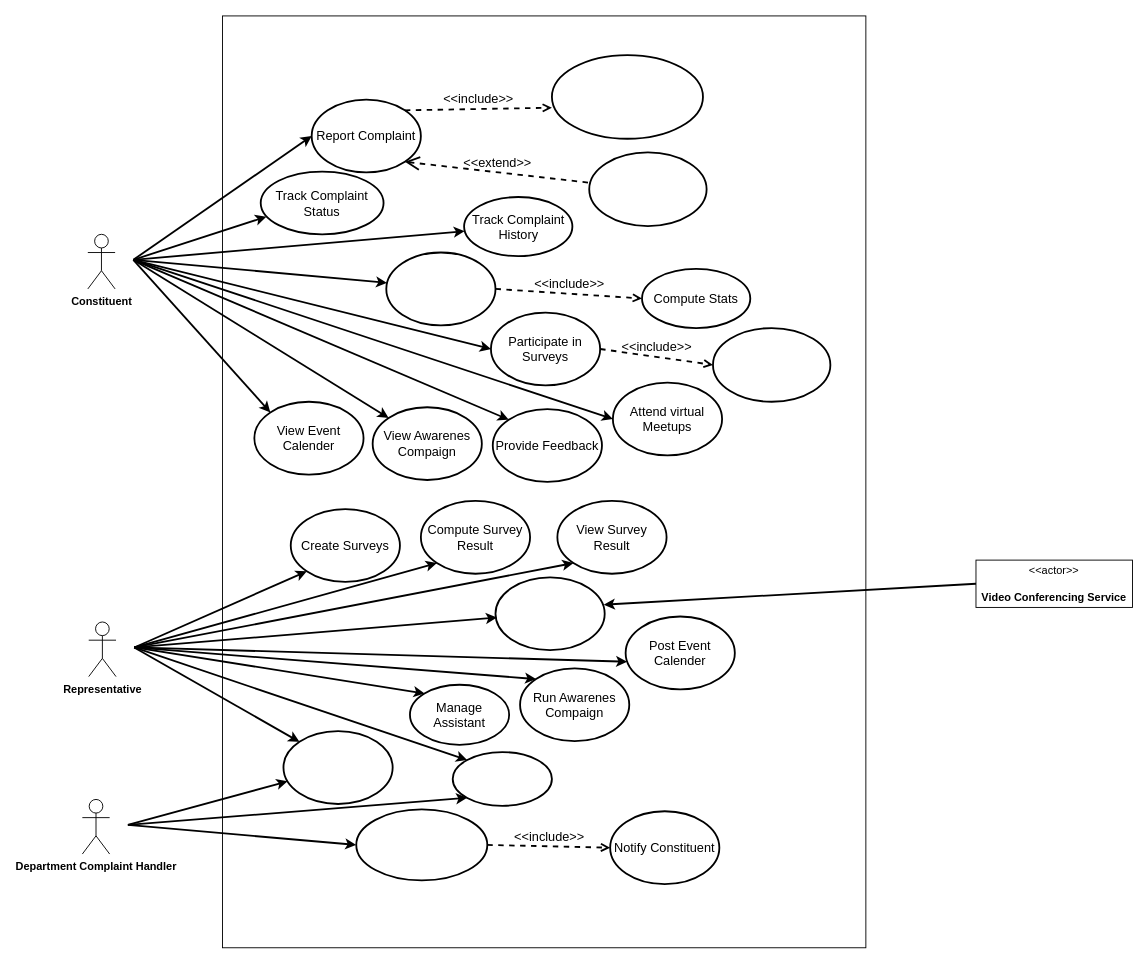
Image size: 1148x964. Some labels were removed from this diagram. The shapes that lost their labels are listed below. From the top down, each one's centre as x and y in pixels, then its label:
the point at 627,96: Forward Complaint In Concerned Department
the point at 647,189: Highlight Urgent Complaint
the point at 440,288: View Representative Stats
the point at 771,364: Record Survey Result
the point at 549,613: Arrange virtual Meetups
the point at 337,767: View Complaint Status
the point at 501,778: View Complaints
the point at 421,844: Update Complaint Status
